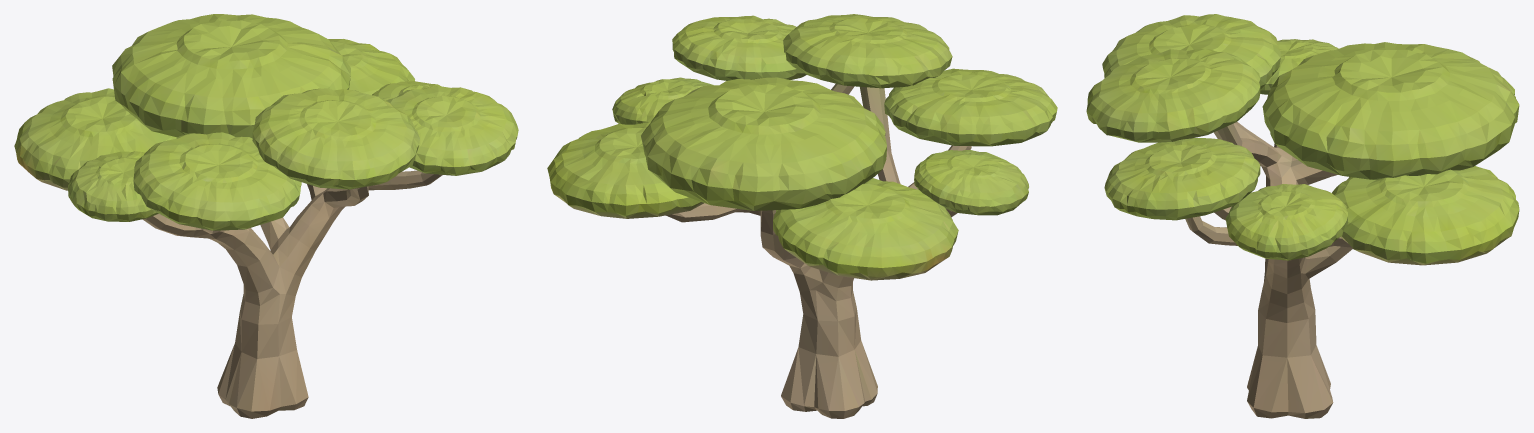
The model's file is acacia.glb.
The picture shows the model from 3 angles, left to right: view 1: azimuth 30°, elevation 25°; view 2: azimuth 150°, elevation 25°; view 3: azimuth 270°, elevation 25°; orthographic projection. The views are drawn at different scales.
Parts seen in each view (by area): view 1: geometry_0; view 2: geometry_0; view 3: geometry_0.
Boxes of the visible parts, x1=… form: geometry_0: x1=14, y1=14, x2=518, y2=418; geometry_0: x1=547, y1=14, x2=1057, y2=418; geometry_0: x1=1086, y1=14, x2=1519, y2=418.
Size of the model in its own units: 0.2104 by 0.165 by 0.1885.
